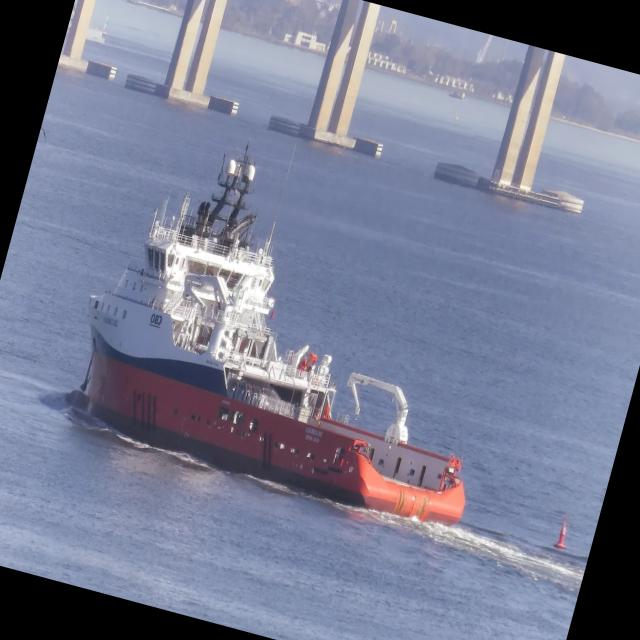Offshore: (68, 145, 465, 524)
